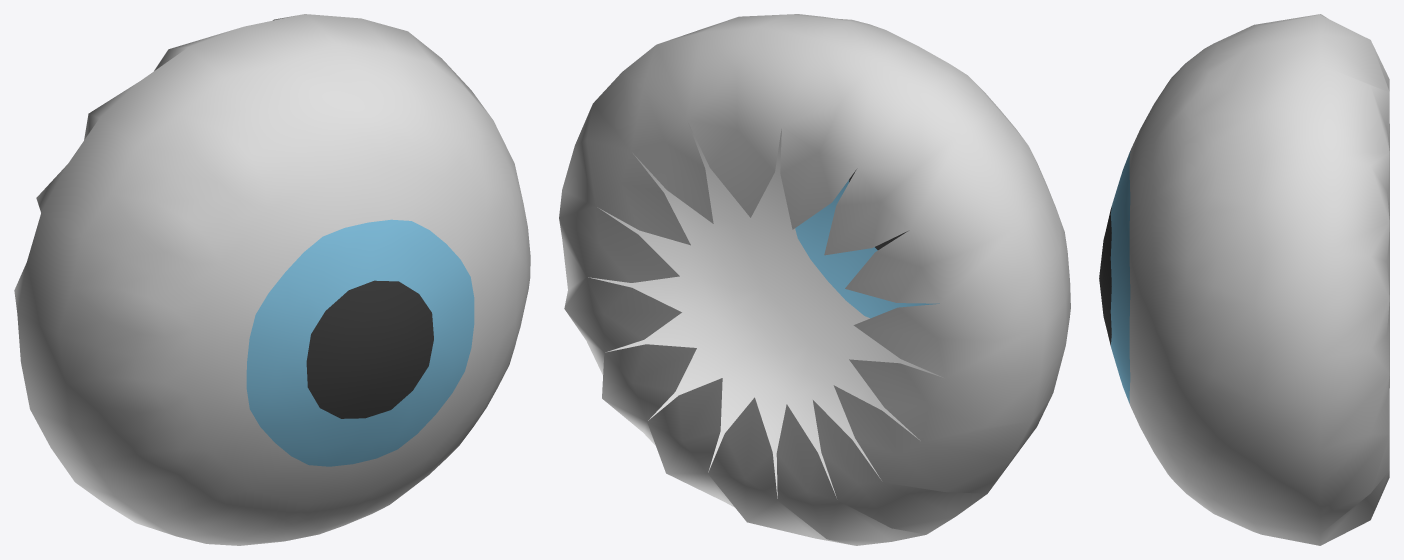
The model's file is eye.fbx.
The picture shows the model from 3 angles, left to right: view 1: azimuth 30°, elevation 25°; view 2: azimuth 150°, elevation 25°; view 3: azimuth 270°, elevation 25°; orthographic projection. The views are drawn at different scales.
Visible parts, largest first — view 1: Skin.002; view 2: Skin.002; view 3: Skin.002.
Boxes of the visible parts, x1,y1,x2,y2 form: Skin.002: (14,14,530,545); Skin.002: (559,14,1070,545); Skin.002: (1099,14,1389,545).
Bounding box in the file's own units: 3.43 × 3.39 × 1.87.
